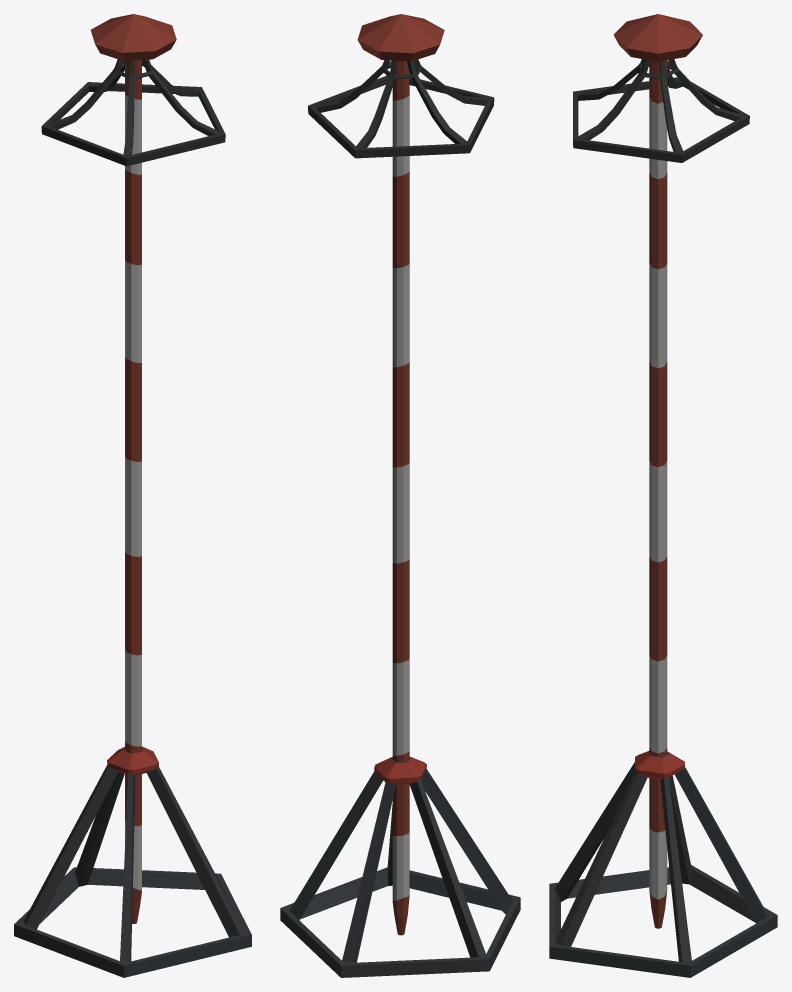
The model's file is SM_Prop_Bunting_Pole_01.glb.
3 views of the same model, side by side, from view 1: azimuth 30°, elevation 25°; view 2: azimuth 150°, elevation 25°; view 3: azimuth 270°, elevation 25° (orthographic).
Parts seen in each view (by area): view 1: SM_Prop_Bunting_Pole_01; view 2: SM_Prop_Bunting_Pole_01; view 3: SM_Prop_Bunting_Pole_01.
Boxes of the visible parts, left/top/right/bottom form: SM_Prop_Bunting_Pole_01: left=14, top=14, right=251, bottom=977; SM_Prop_Bunting_Pole_01: left=280, top=14, right=520, bottom=977; SM_Prop_Bunting_Pole_01: left=549, top=14, right=777, bottom=977.
Bounding box in the file's own units: 227 × 954 × 216.
Materials: 1 (1 with a texture image).
